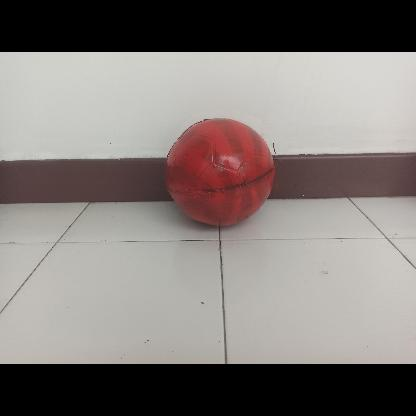red_ball: (163, 113, 273, 223)
